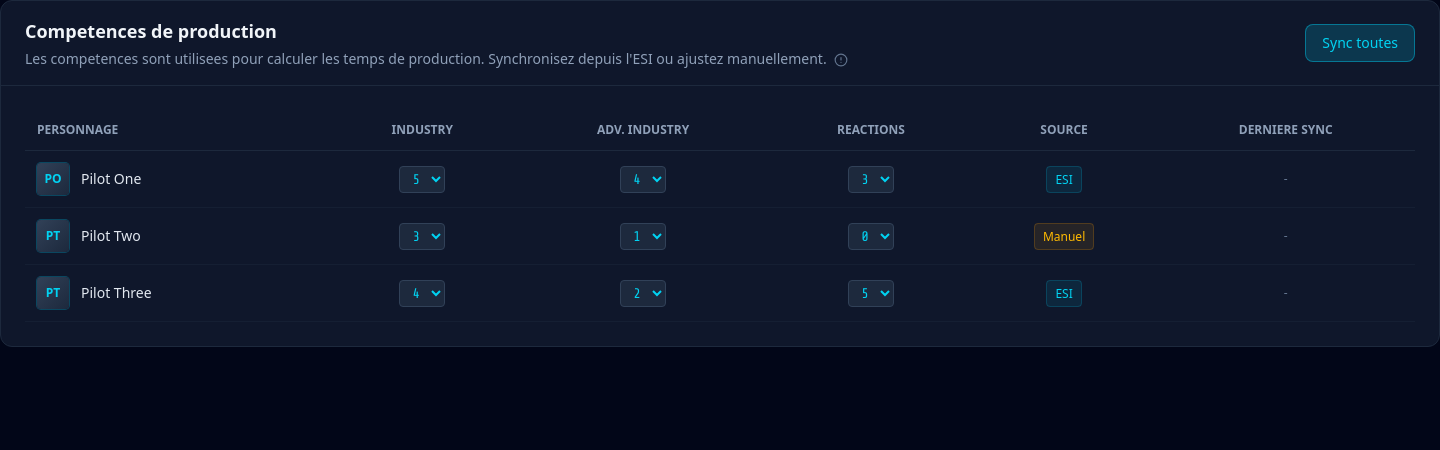
Test: SkillsConfig skill sync failures › names a rate limited character in french without link
Click the button "Sync toutes": point(1360, 43) [1305, 24, 1415, 62]
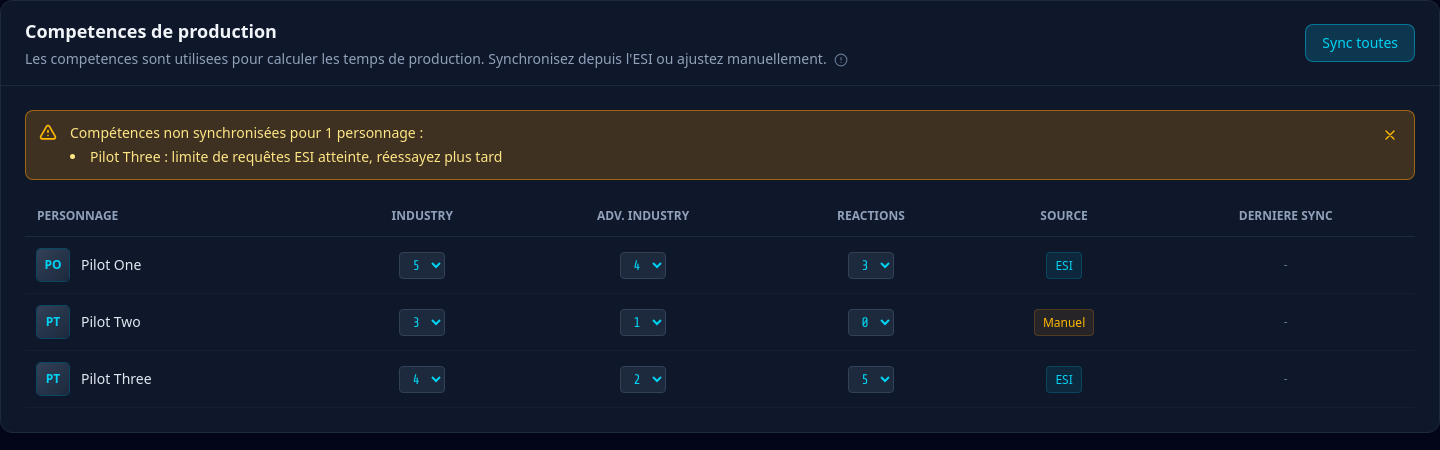
Now the number of elements with test id "skills-sync-failures" is 1, box [25, 110, 1415, 180]
Now the element with test id "skills-sync-failures" shows "Compétences non synchronisées pour 1 personnage :", box [70, 123, 423, 142]
